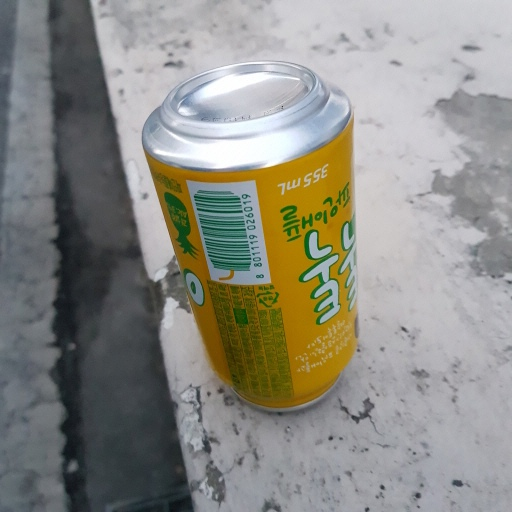Metal_0: (141, 61, 362, 411)
